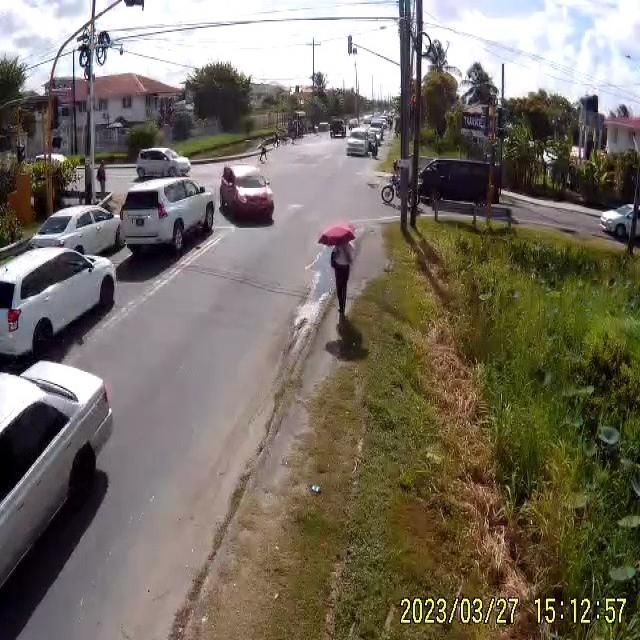car: (0, 242, 118, 370), (118, 178, 216, 255), (408, 156, 504, 228), (29, 205, 126, 256), (219, 168, 275, 225), (136, 146, 190, 180), (600, 202, 639, 245), (344, 133, 370, 155), (329, 120, 346, 138)
person: (327, 232, 355, 314), (95, 161, 106, 191), (259, 146, 268, 164)
